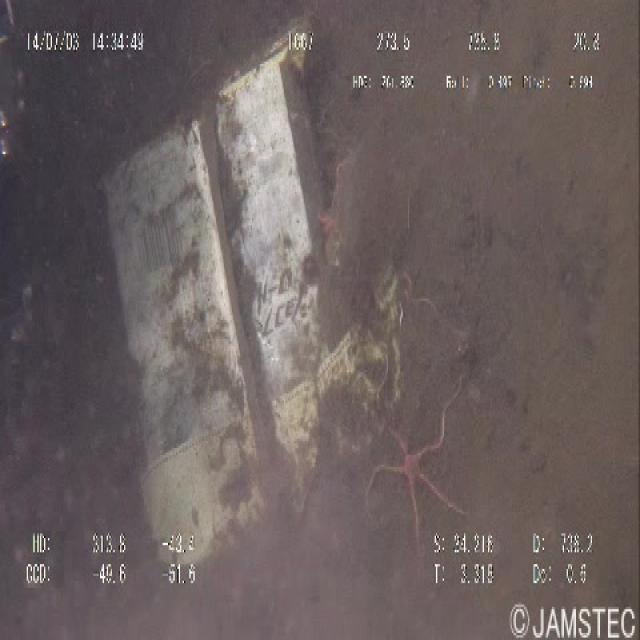plastic: (77, 17, 407, 576)
